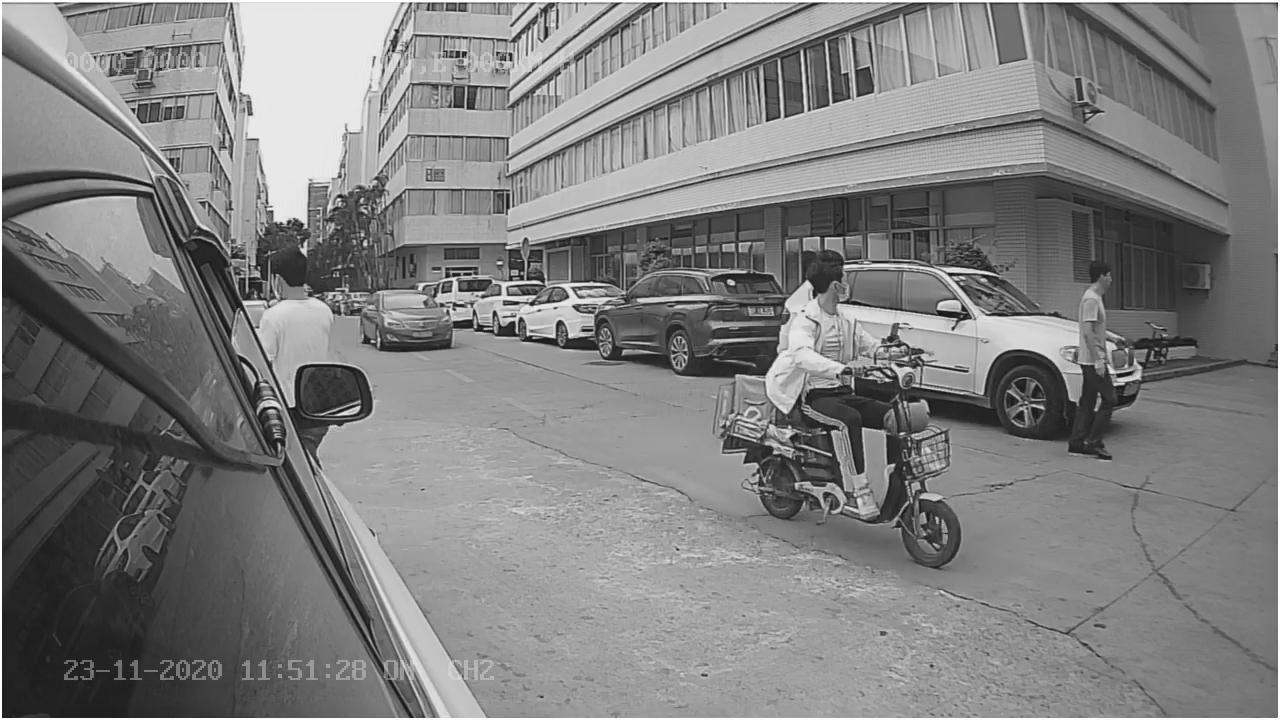person: (1053, 246, 1128, 468), (786, 244, 908, 375)
